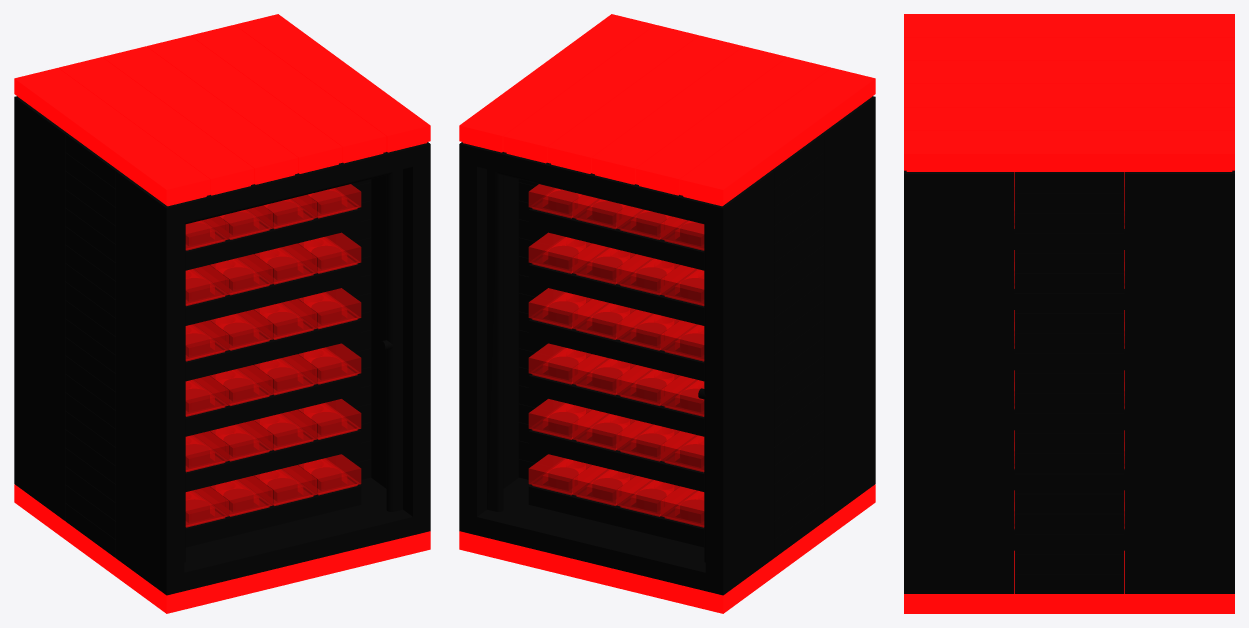
The model's file is Stack.fbx.
The picture shows the model from 3 angles, left to right: view 1: azimuth 30°, elevation 25°; view 2: azimuth 150°, elevation 25°; view 3: azimuth 270°, elevation 25°; orthographic projection. The views are drawn at different scales.
Visible parts, largest first — view 1: Model; view 2: Model; view 3: Model.
Part boxes in pixels (box(x1,y1,x2,y2)): Model: box(14, 14, 430, 613); Model: box(459, 14, 875, 613); Model: box(904, 14, 1234, 613).
Size of the model in its own units: 479 by 735 by 479.
